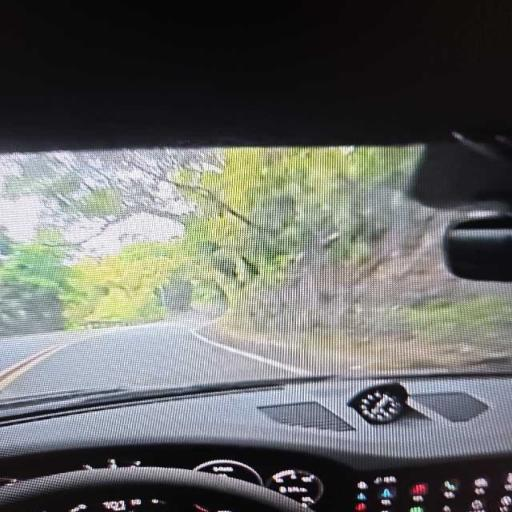car: (0, 3, 511, 511)
lane: (0, 316, 293, 397)
